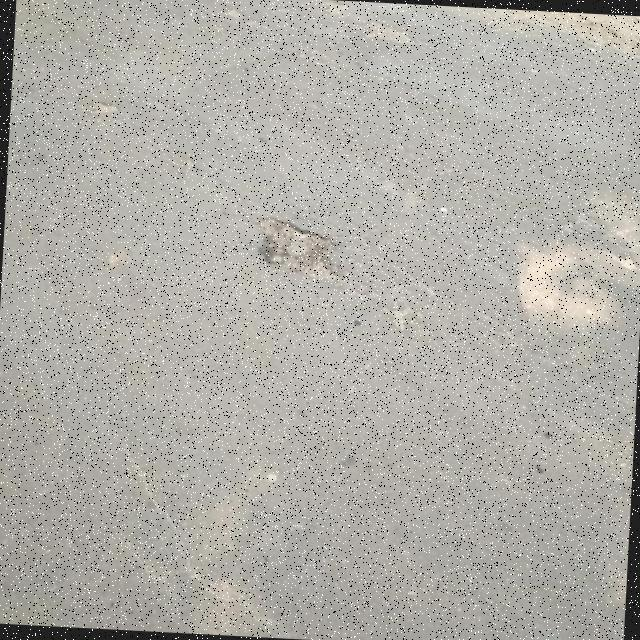Pothole: (257, 218, 339, 280)
